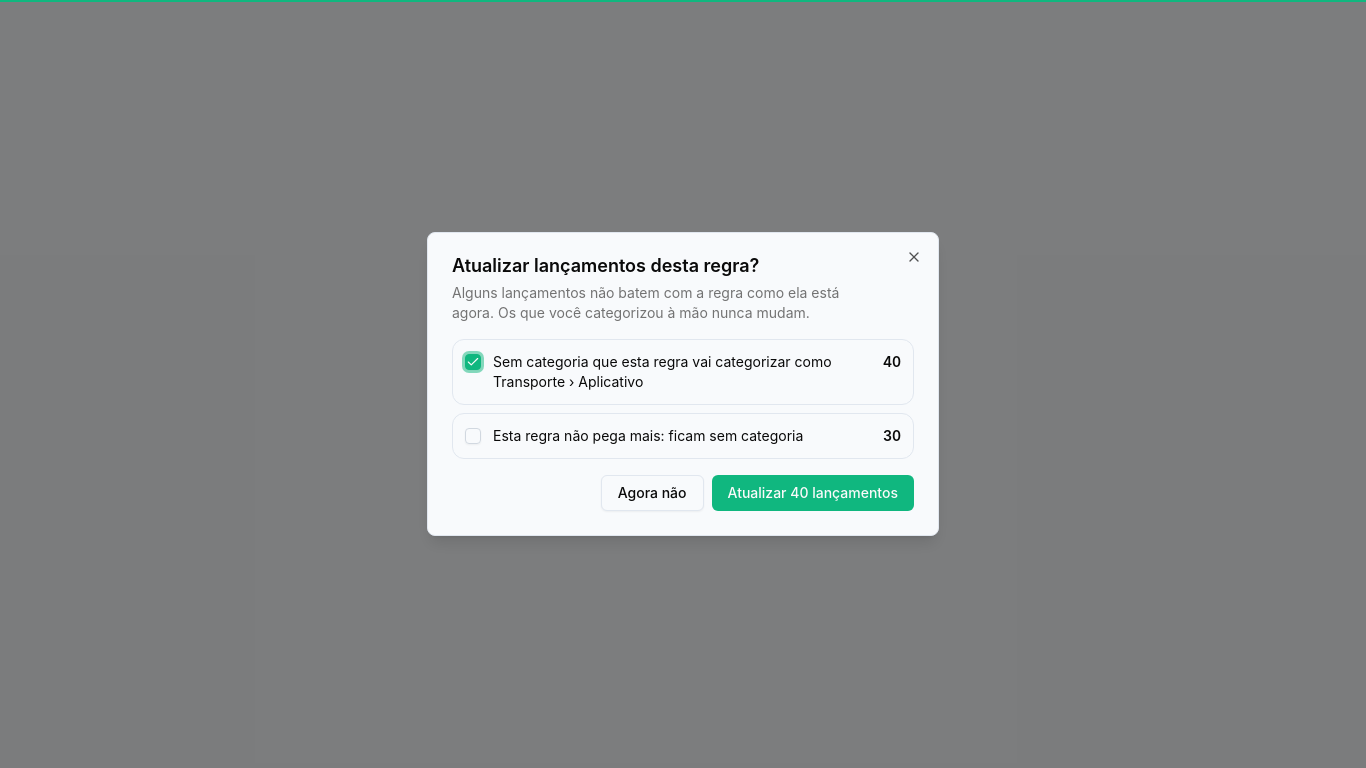
Test: ReconcileRuleDialog › acima de max_changes avisa e desabilita o botão
Expected: the button "Atualizar 40 lançamentos" is enabled, [712,475,914,511]
What coordinates should you click on to do the following:
click the checkbox named "Esta regra não pega mais: ficam sem categoria" in the row of "30"
I would click on:
 (473, 436)
Its box is [465,428,481,444].
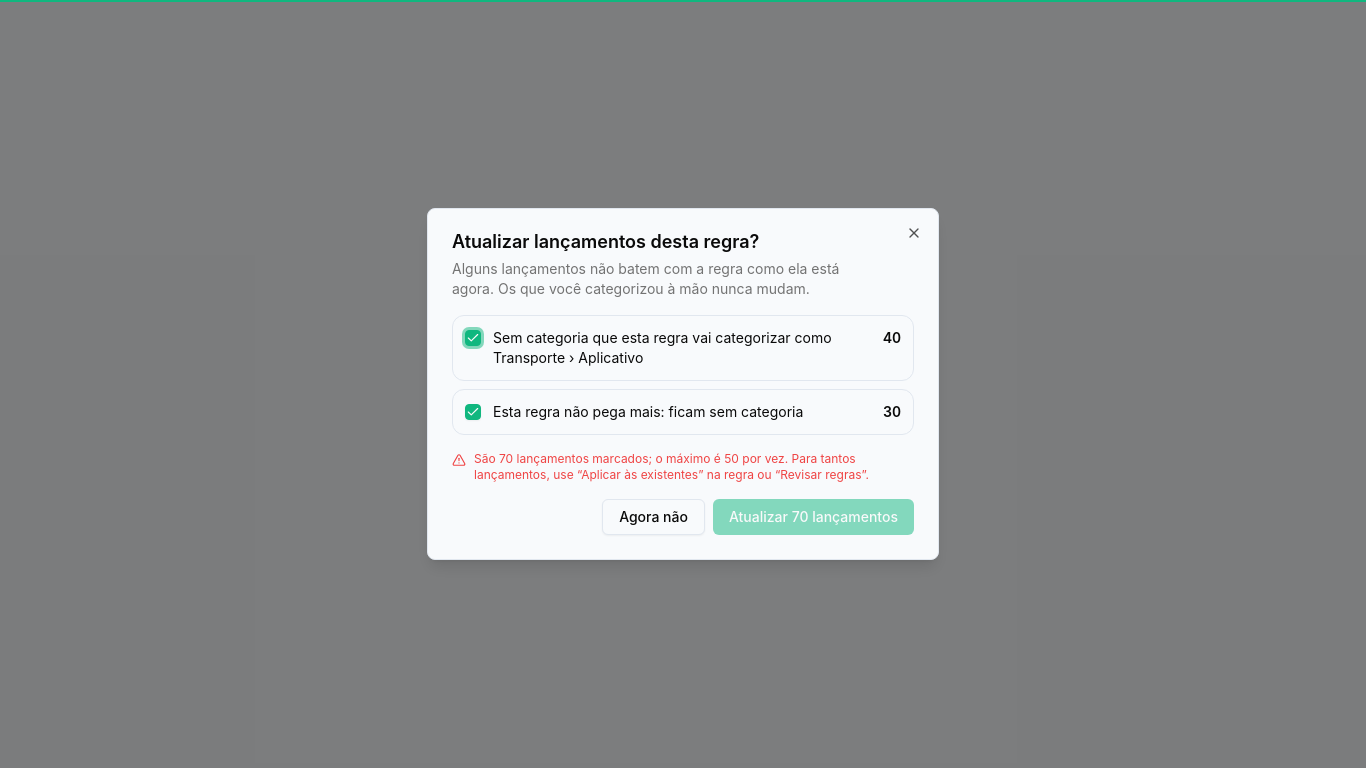
Result: the message shows "São 70 lançamentos marcados; o máximo é 50 por vez." at [452,451,914,483]
Result: the message shows "use “Aplicar às existentes” na regra ou “Revisar regras”." at [474,451,869,482]
Result: the button "Atualizar 70 lançamentos" is disabled at [713,499,914,535]
